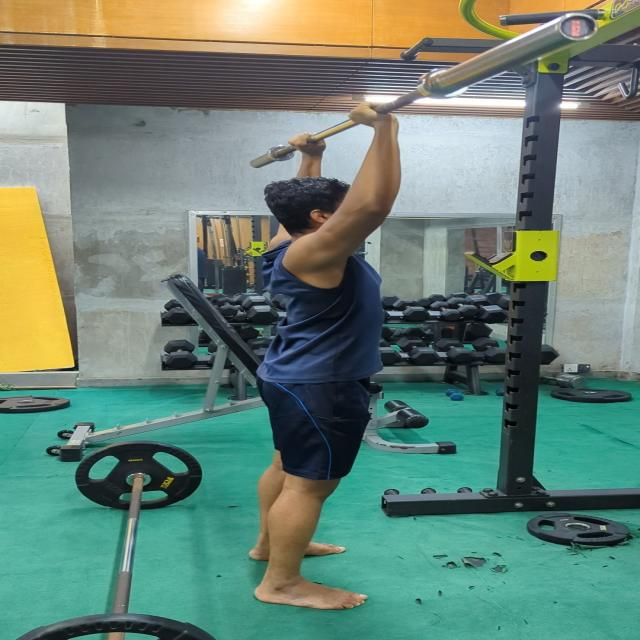Normal_OverheadPress: (228, 90, 433, 622)
